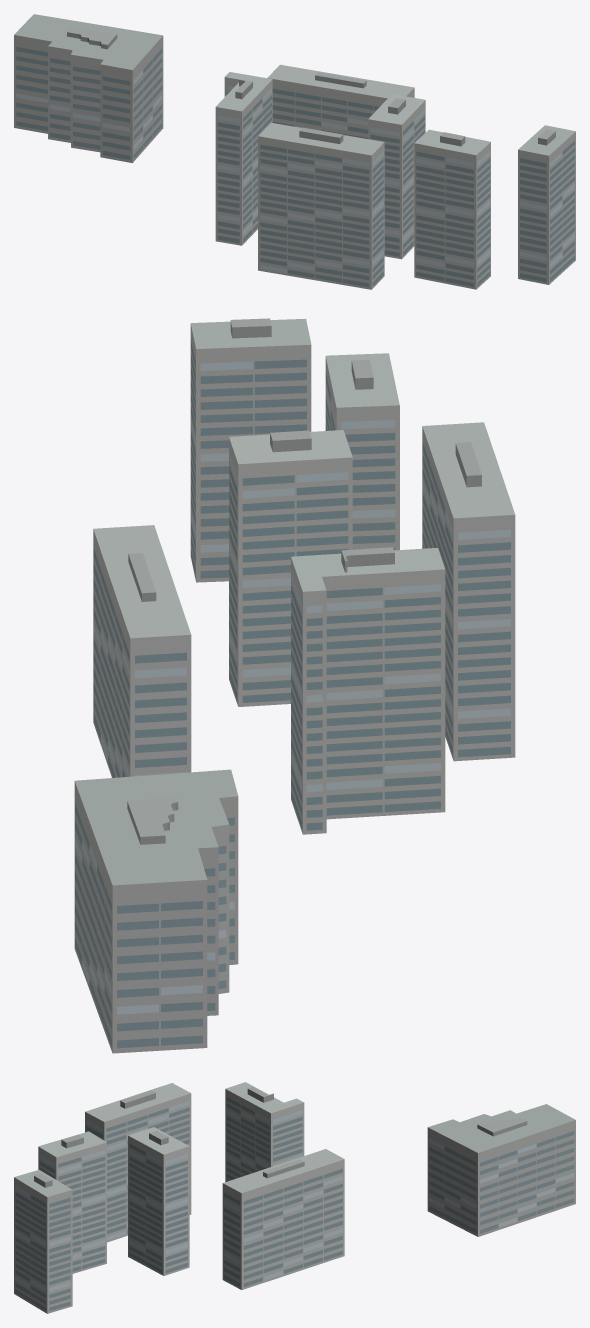
File: apt-a13372101.glb
3 views of the same model, one above another, from view 1: azimuth 30°, elevation 25°; view 2: azimuth 150°, elevation 25°; view 3: azimuth 270°, elevation 25° (orthographic). The views are drawn at different scales.
Parts seen in each view (by area): view 1: apt-a13372101; view 2: apt-a13372101; view 3: apt-a13372101.
Part boxes in pixels (x1,y1,x2,y2): apt-a13372101: [14, 14, 575, 289]; apt-a13372101: [74, 318, 515, 1053]; apt-a13372101: [14, 1082, 575, 1313].
Bounding box in the file's own units: 110 × 52 × 208.
